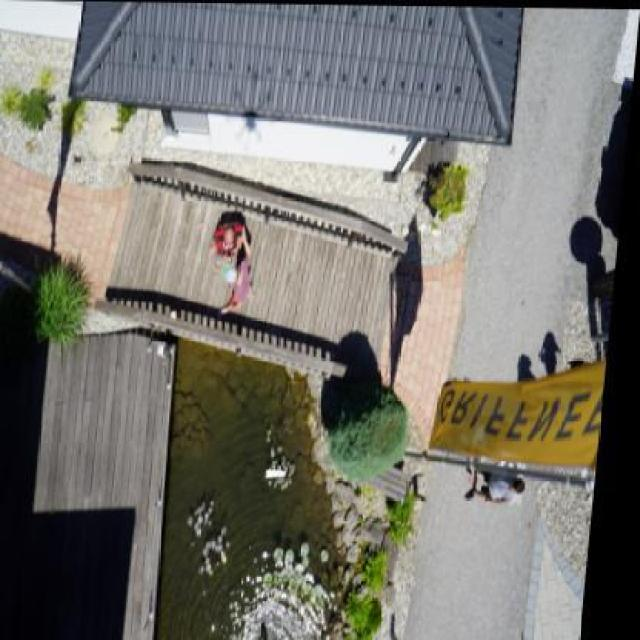Person: (469, 469, 551, 505), (218, 256, 268, 315), (209, 205, 263, 258)
